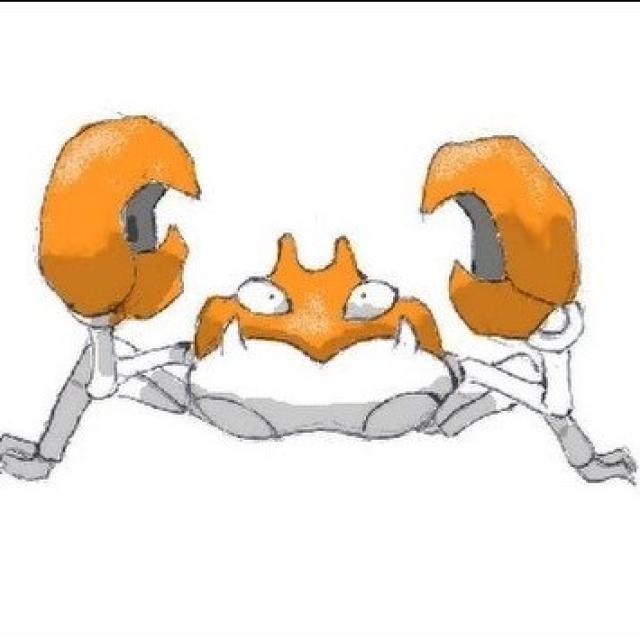Krabby: (47, 138, 578, 439)
